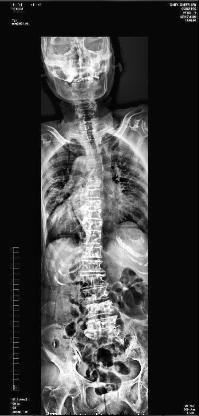Vertebrae: (87, 318, 120, 340), (82, 298, 118, 318), (80, 258, 106, 274), (82, 274, 107, 290), (84, 289, 108, 303), (82, 230, 104, 245), (80, 245, 104, 257), (83, 187, 103, 201), (84, 218, 106, 230), (86, 207, 104, 220), (85, 178, 103, 190), (88, 168, 102, 182), (85, 197, 101, 209), (86, 148, 100, 158), (87, 158, 100, 168)
